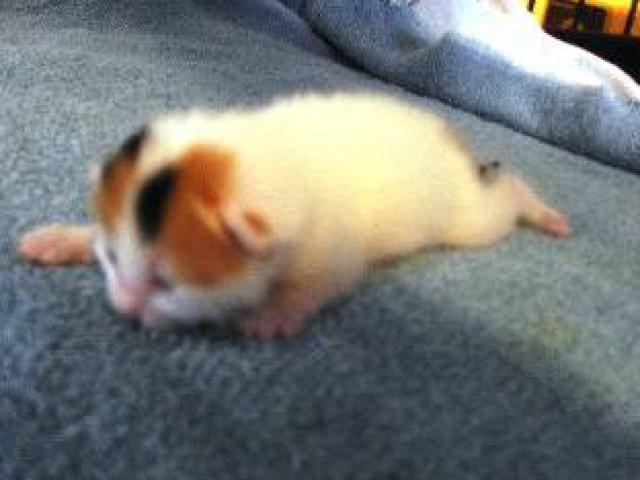cat: (19, 90, 559, 335)
